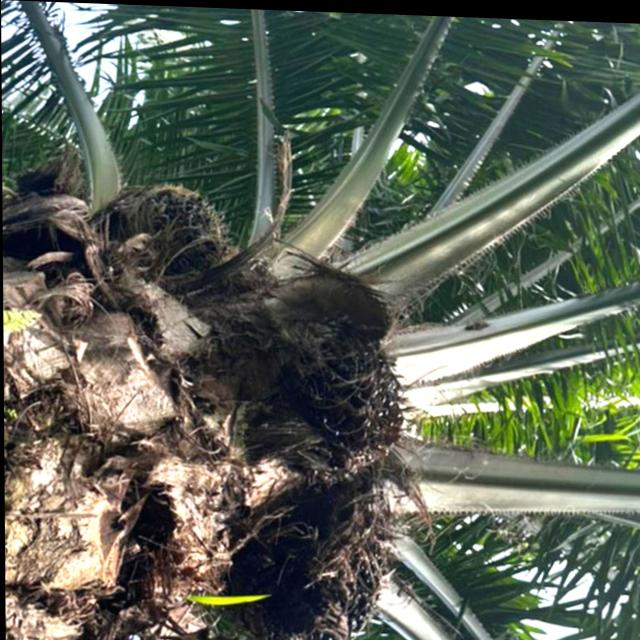ripe: (295, 340, 418, 457), (287, 510, 386, 640), (118, 175, 228, 261)
